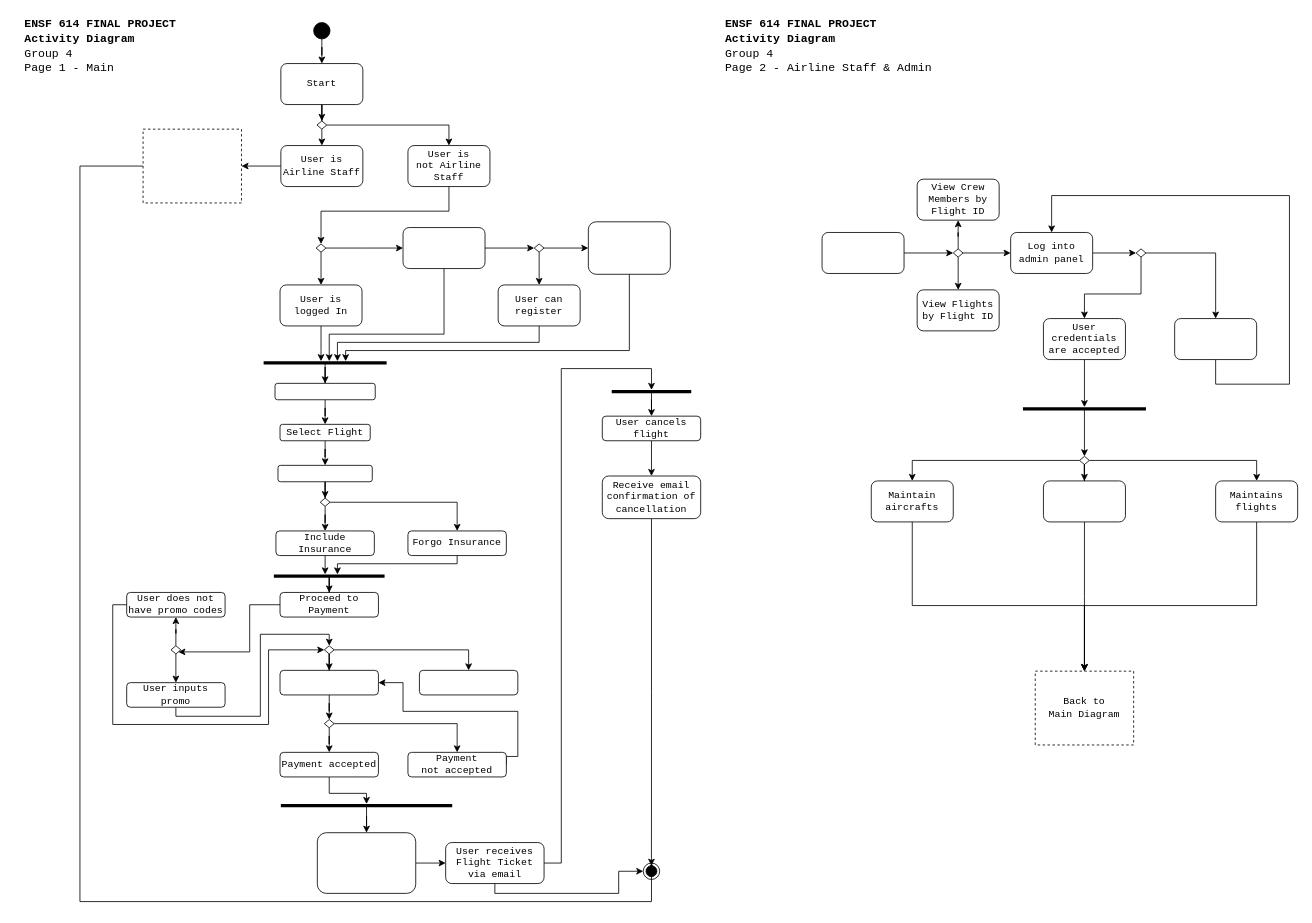
Some shapes in this 1312 by 923 pixel diagram are drawn without their labels. The box of each missing label's shape, as (x1, y1, x2, y2) in pixels:
Browse Flights: (274, 383, 375, 400)
Maintain crews: (1043, 480, 1125, 522)
See Airline Activity Diagram: (142, 128, 241, 203)
Select Seat: (277, 465, 372, 482)
User can continue without registration: (588, 221, 670, 274)
User credentials are invalid: (1174, 318, 1257, 360)
User does not pay amount: (419, 670, 518, 695)
User is not logged in: (402, 227, 485, 269)
User logs in as Airline Staff: (821, 232, 904, 273)
User pays amount: (279, 670, 378, 695)
User receives payment confirmation invoice via email: (317, 832, 416, 893)
